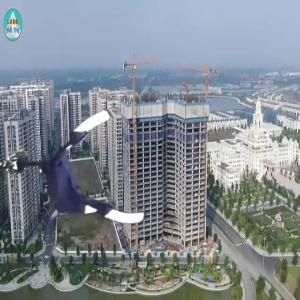drone: (19, 122, 148, 251)
